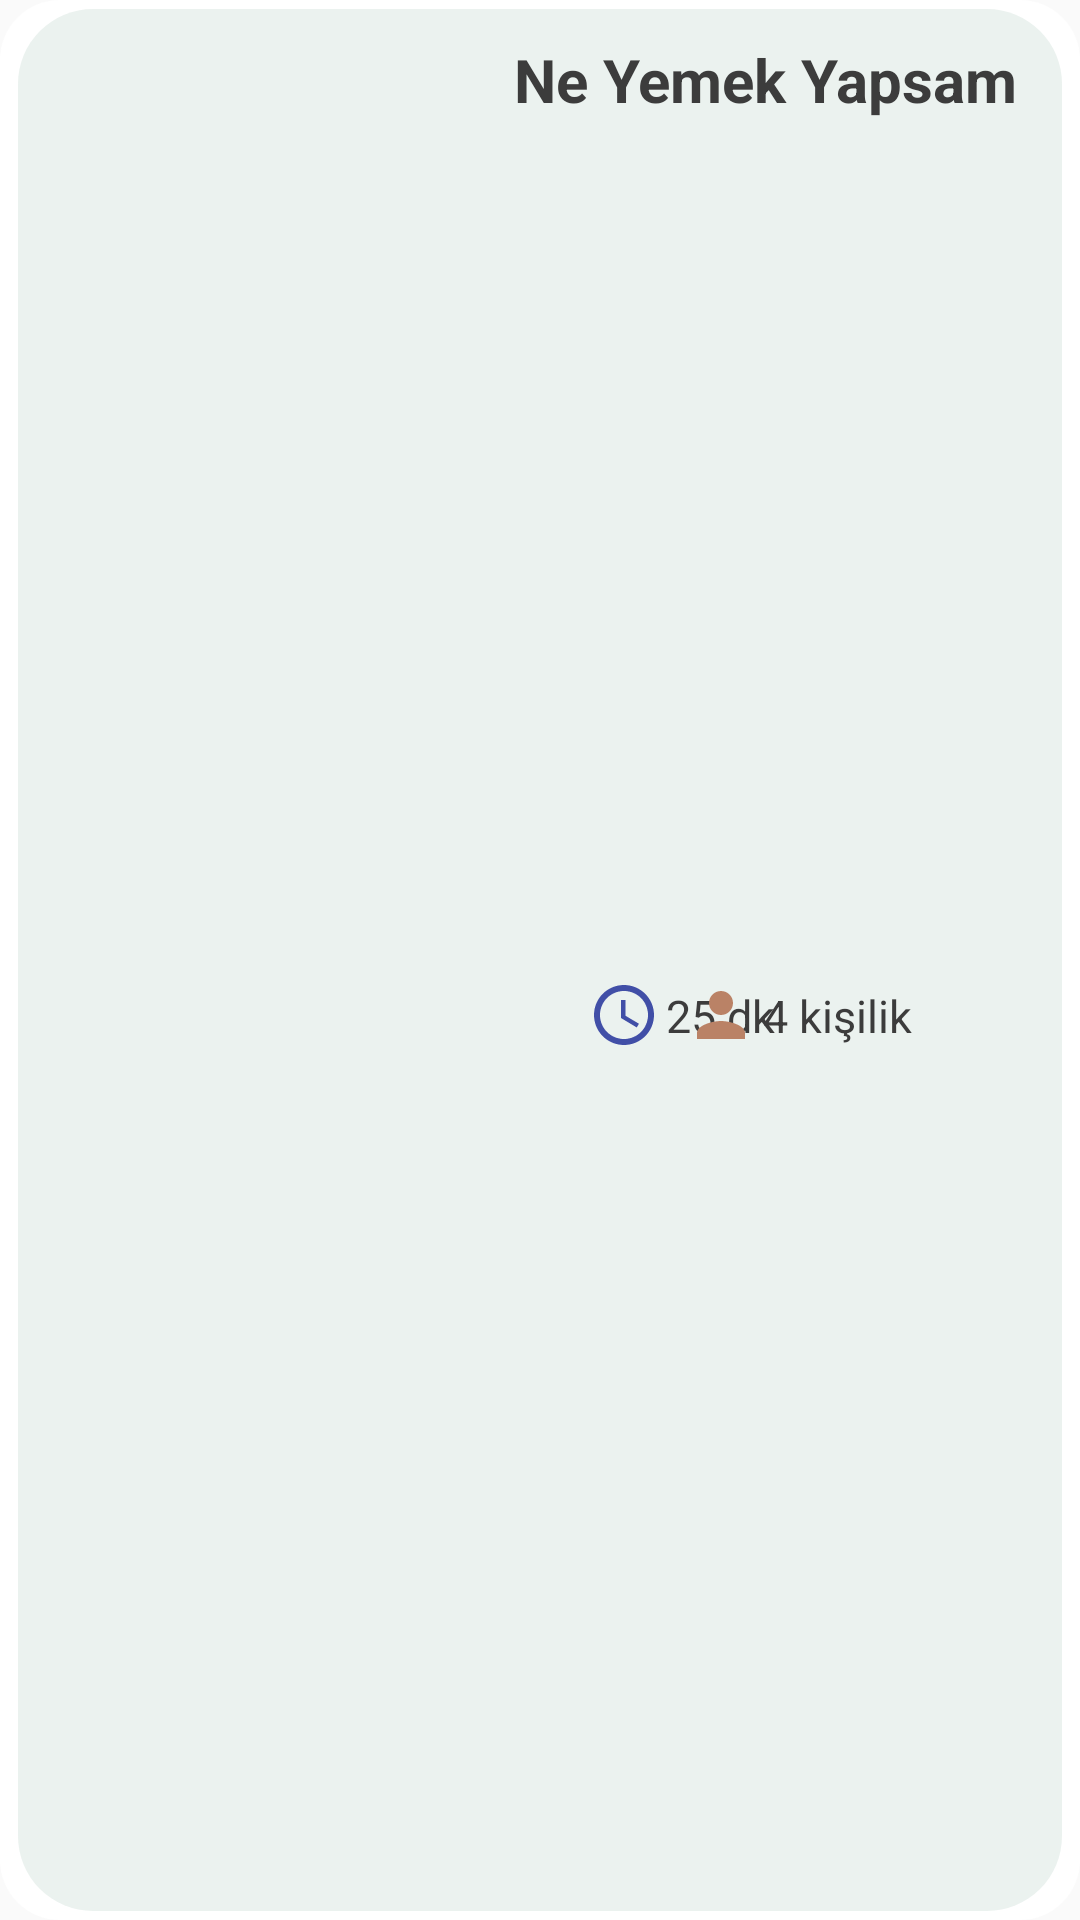

Named icons in this screenshot (1080px×1920px) and their bounding boxes, (x1, y1, x2, y2):
person: (694, 991, 750, 1039)
time: (594, 985, 654, 1045)
